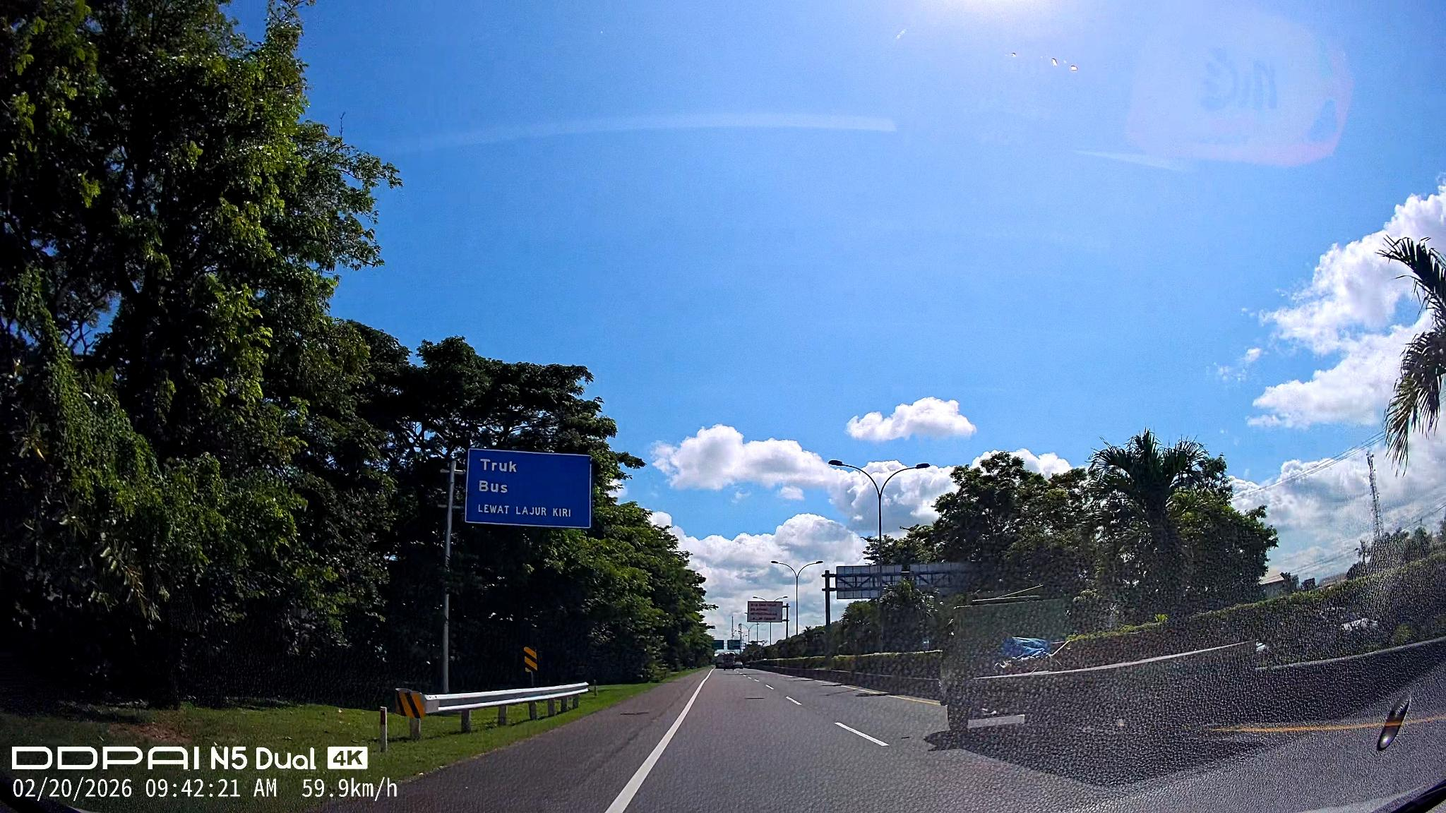rambu_teks: (464, 447, 592, 529)
